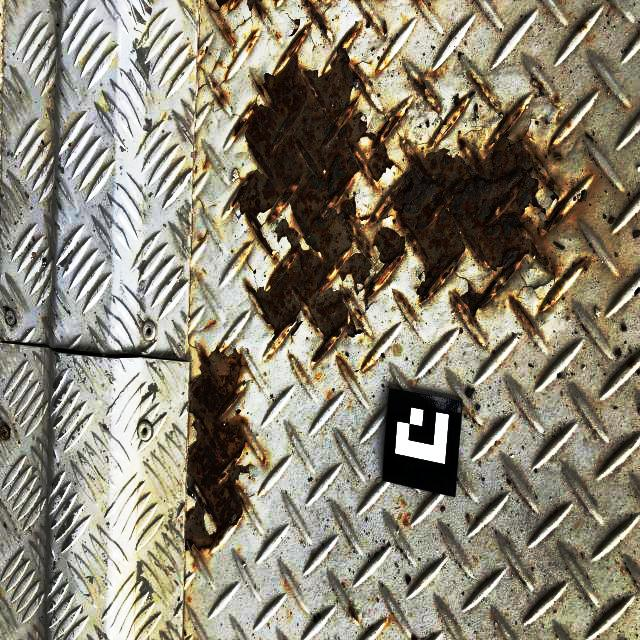Corrosion: (234, 49, 371, 363), (395, 103, 567, 316), (186, 349, 246, 550), (365, 114, 403, 185), (371, 226, 408, 283), (362, 119, 391, 156), (304, 0, 327, 36), (511, 297, 536, 330), (289, 26, 308, 58), (453, 296, 473, 323), (247, 0, 266, 16), (212, 0, 240, 10), (471, 75, 485, 94), (365, 277, 376, 300), (413, 76, 427, 94), (234, 120, 245, 137), (224, 28, 234, 45), (214, 92, 225, 107), (399, 295, 408, 308), (459, 138, 468, 148), (371, 215, 378, 225)
